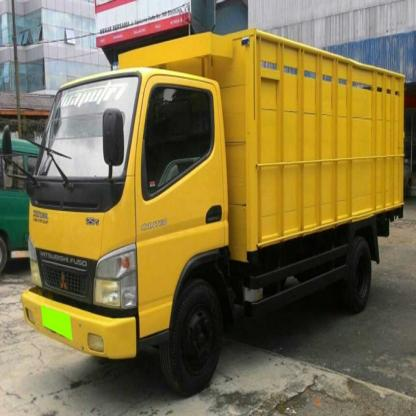truck: (1, 27, 409, 390)
